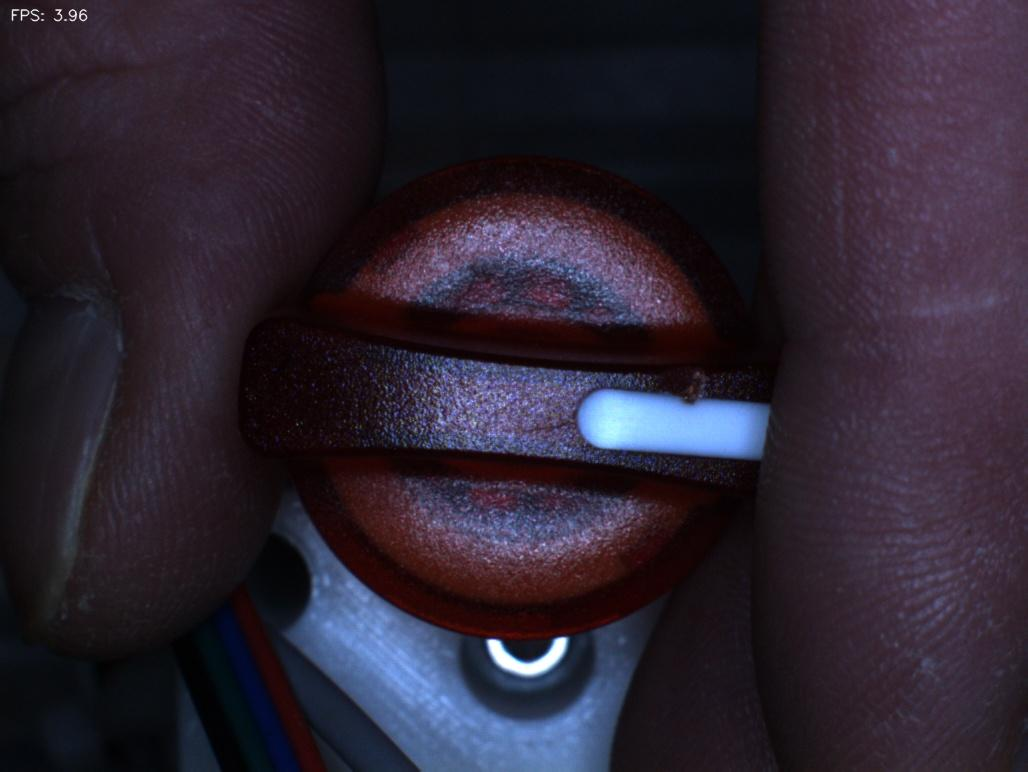Choc: (657, 329, 737, 427)
